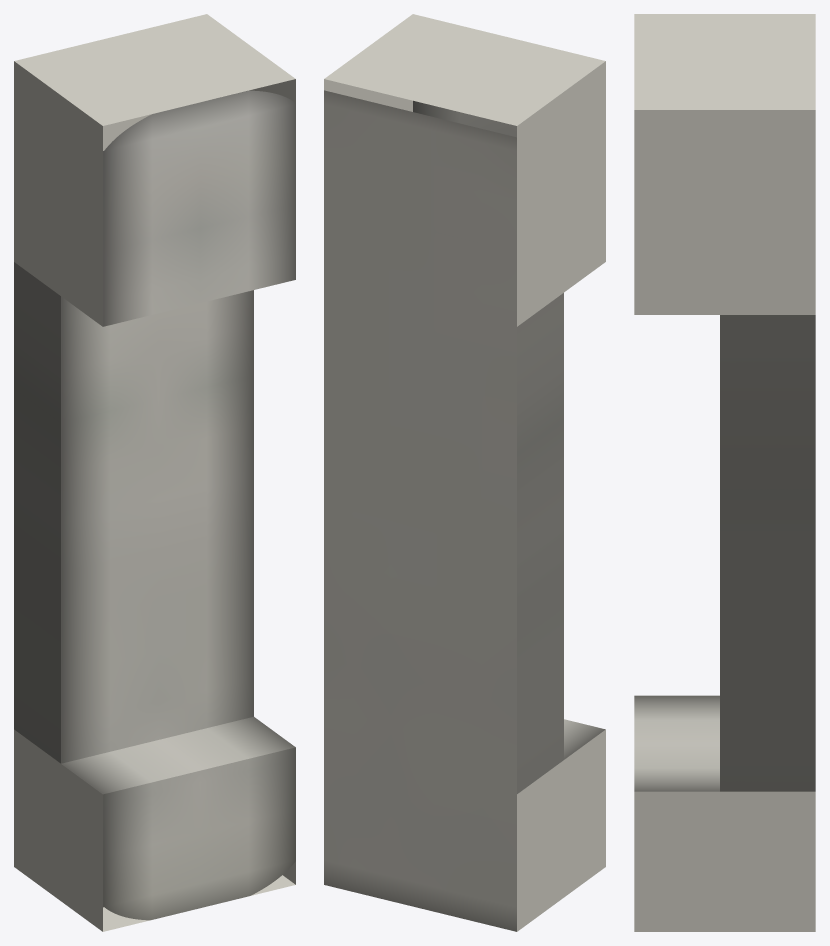
Rendered from SM_EC_Telephone_0.fbx.
3 views of the same model, side by side, from view 1: azimuth 30°, elevation 25°; view 2: azimuth 150°, elevation 25°; view 3: azimuth 270°, elevation 25° (orthographic).
Visible parts, largest first — view 1: SM_EC_Telephone_0; view 2: SM_EC_Telephone_0; view 3: SM_EC_Telephone_0.
Boxes of the visible parts, x1=… form: SM_EC_Telephone_0: x1=14, y1=14, x2=295, y2=931; SM_EC_Telephone_0: x1=324, y1=14, x2=605, y2=931; SM_EC_Telephone_0: x1=634, y1=14, x2=815, y2=931.
Bounding box in the file's own units: 0.1253 × 0.0998 × 0.4998.
